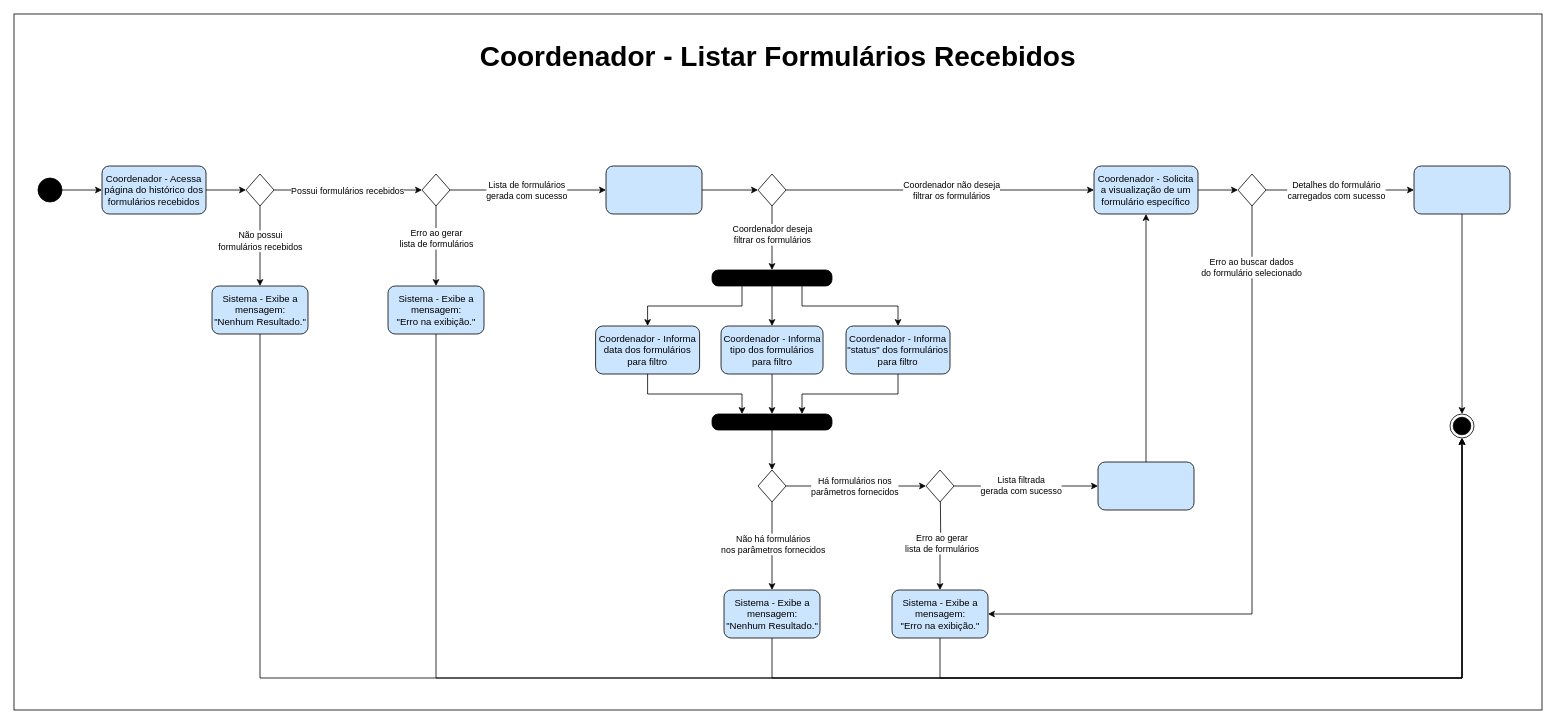
This 1556x724 diagram has some shape labels left out. Here are the shapes that lost their labels. From the top down, the box of each, then its label:
(605, 165, 702, 214): Sistema - Exibe os formulários recebidos pelo coordenador
(1413, 165, 1510, 214): Sistema - Exibe detalhes do formuláio selecionado
(1097, 461, 1194, 510): Sistema - Exibe formulários que atendem aos filtros
